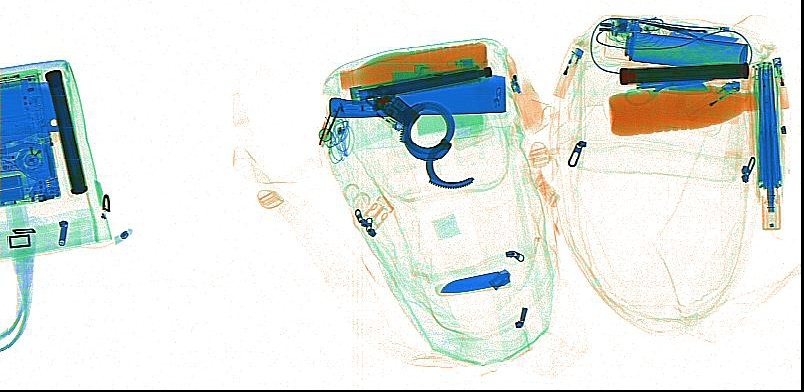handcuffs: (368, 83, 476, 189)
knife: (328, 71, 508, 119), (1, 79, 64, 137), (643, 22, 740, 45), (438, 268, 511, 295), (633, 80, 710, 92)
lighter: (684, 80, 740, 121), (551, 45, 583, 100), (508, 77, 533, 128), (771, 54, 789, 110), (504, 52, 516, 84)
pressure: (621, 30, 749, 69)
